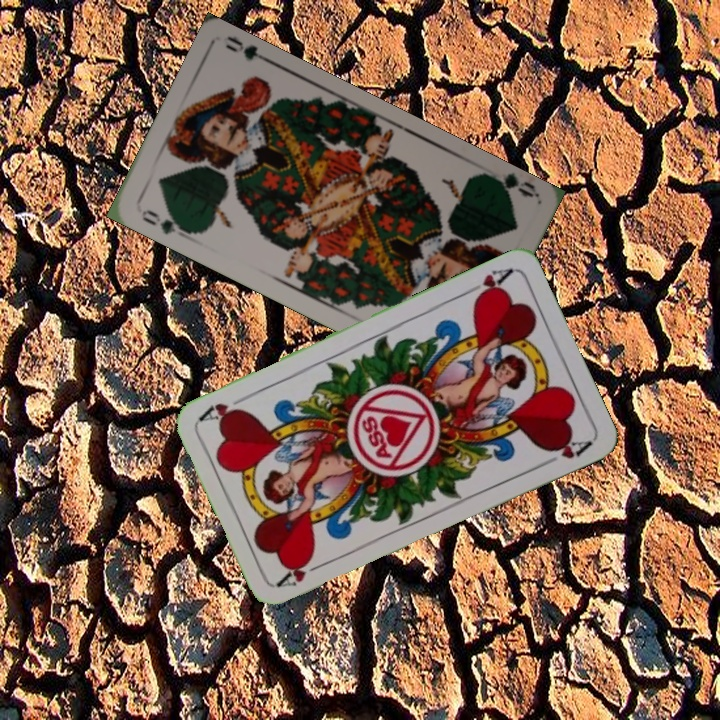GO: (478, 168, 538, 201), (137, 205, 191, 238)
HA: (460, 264, 515, 305), (274, 553, 330, 590)
